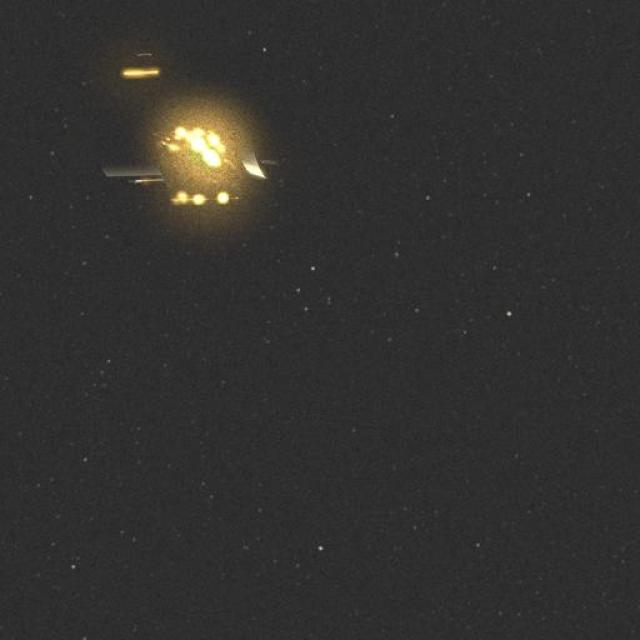earth_observation_sat_1: (82, 30, 306, 238)
